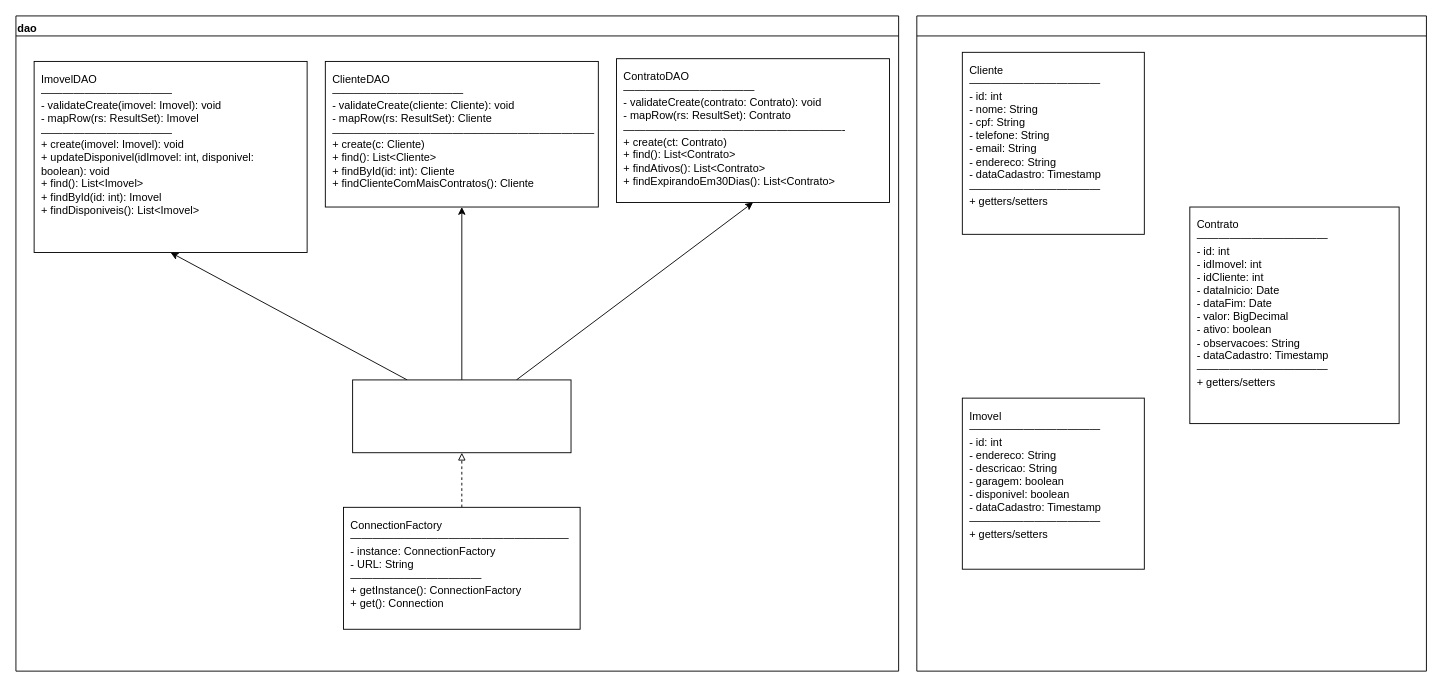
Image size: 1442x687. Some labels were removed from this diagram. The box of each missing label's shape, as (x1, y1, x2, y2) in pixels:
BaseDAO——————— ———————————— # con(): Connection: (352, 379, 571, 453)
entidade: (916, 15, 1426, 671)
